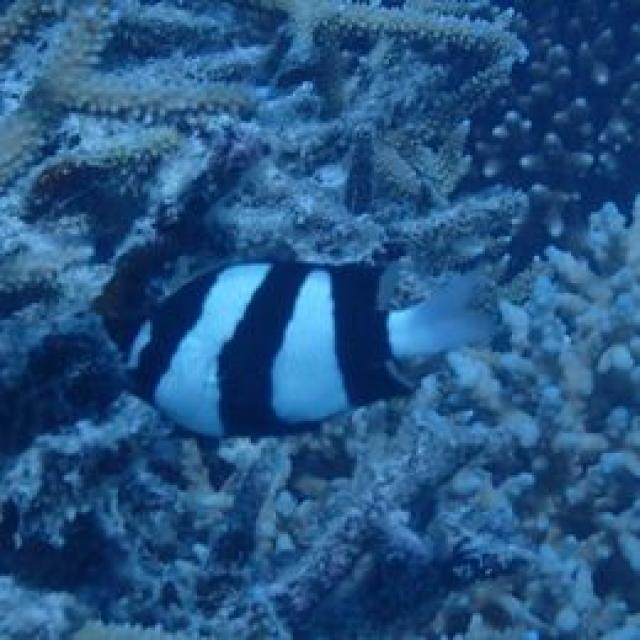ThreeStripedDamselfish: (123, 261, 505, 441)
